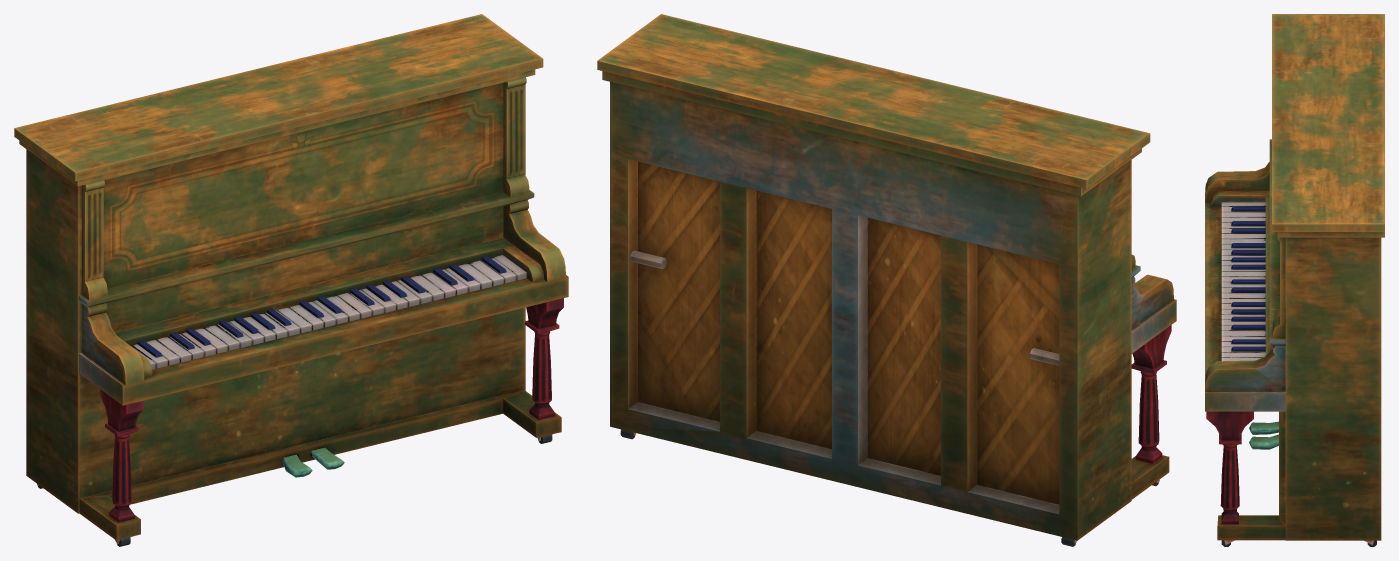
Rendered from Street_Piano.glb.
The picture shows the model from 3 angles, left to right: view 1: azimuth 30°, elevation 25°; view 2: azimuth 150°, elevation 25°; view 3: azimuth 270°, elevation 25°; orthographic projection. The views are drawn at different scales.
Visible parts, largest first — view 1: MSH_Piano_MAT_Piano_0; view 2: MSH_Piano_MAT_Piano_0; view 3: MSH_Piano_MAT_Piano_0.
Boxes of the visible parts, bbox=[...] form: MSH_Piano_MAT_Piano_0: bbox=[14, 14, 568, 546]; MSH_Piano_MAT_Piano_0: bbox=[597, 14, 1176, 546]; MSH_Piano_MAT_Piano_0: bbox=[1205, 14, 1384, 546].
Size of the model in its own units: 183 by 134 by 66.12.
1 material, 1 textured.
